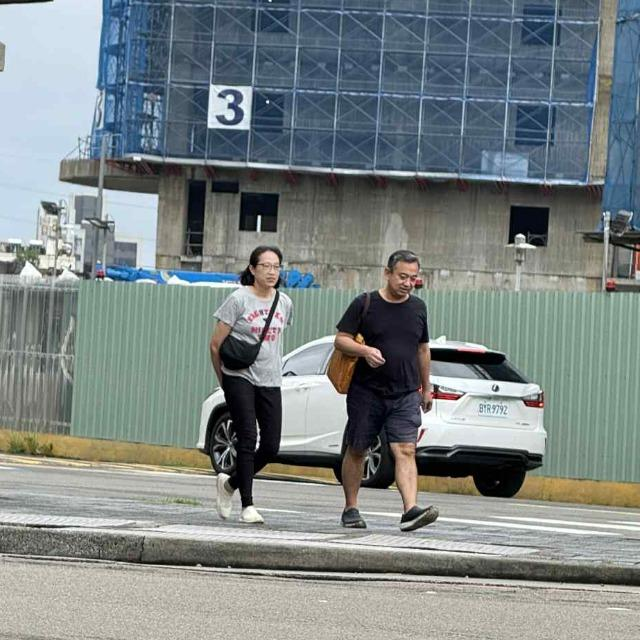NoHelmet: (381, 250, 423, 297)
NoVest: (224, 287, 292, 391)
